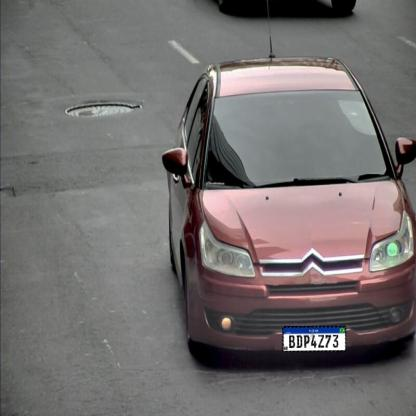PlacaM: (283, 326, 346, 352)
